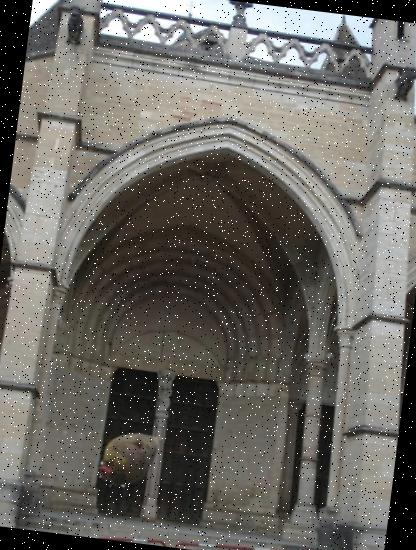Beetroot: (88, 414, 173, 500)
